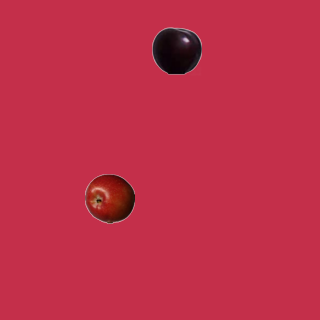Apple Braeburn: (84, 173, 134, 223)
Cherry Wax Black: (151, 25, 201, 75)
